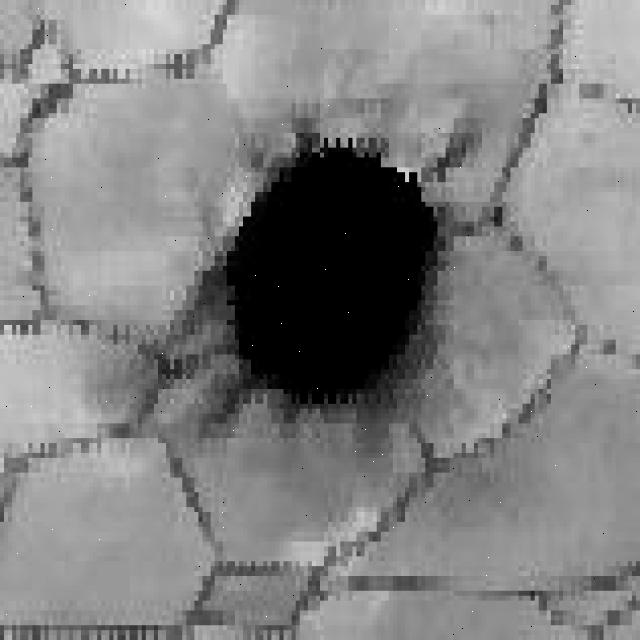good_void: (188, 119, 482, 443)
